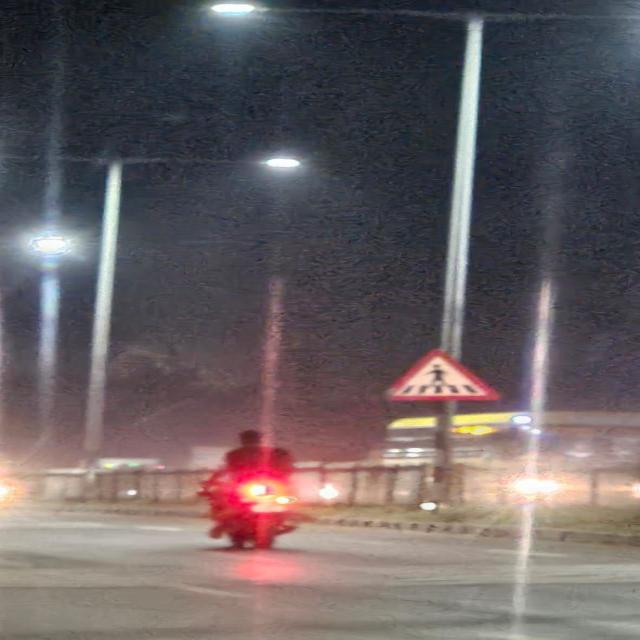Pedestrain_crossing: (384, 341, 499, 402)
